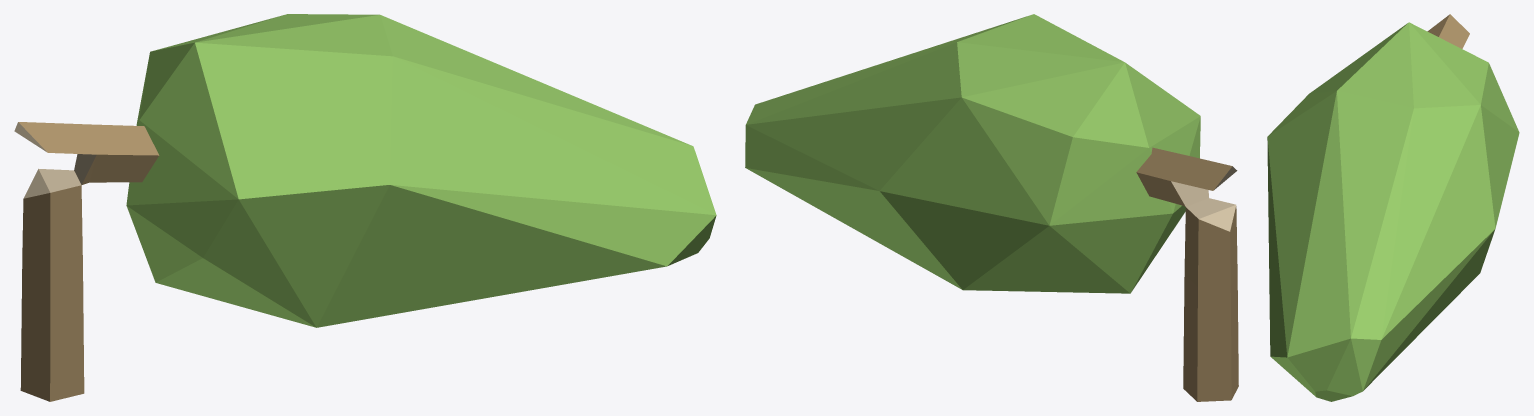
Rendered from Thuja_Tree_crk_s_02.fbx.
The picture shows the model from 3 angles, left to right: view 1: azimuth 30°, elevation 25°; view 2: azimuth 150°, elevation 25°; view 3: azimuth 270°, elevation 25°; orthographic projection. The views are drawn at different scales.
Parts seen in each view (by area): view 1: Thuja_Tree_crk_s_02; view 2: Thuja_Tree_crk_s_02; view 3: Thuja_Tree_crk_s_02.
Boxes of the visible parts, x1,y1,x2,y2 form: Thuja_Tree_crk_s_02: (14,14,716,401); Thuja_Tree_crk_s_02: (745,14,1238,401); Thuja_Tree_crk_s_02: (1267,14,1519,401).
Bounding box in the file's own units: 235 × 121 × 109.
